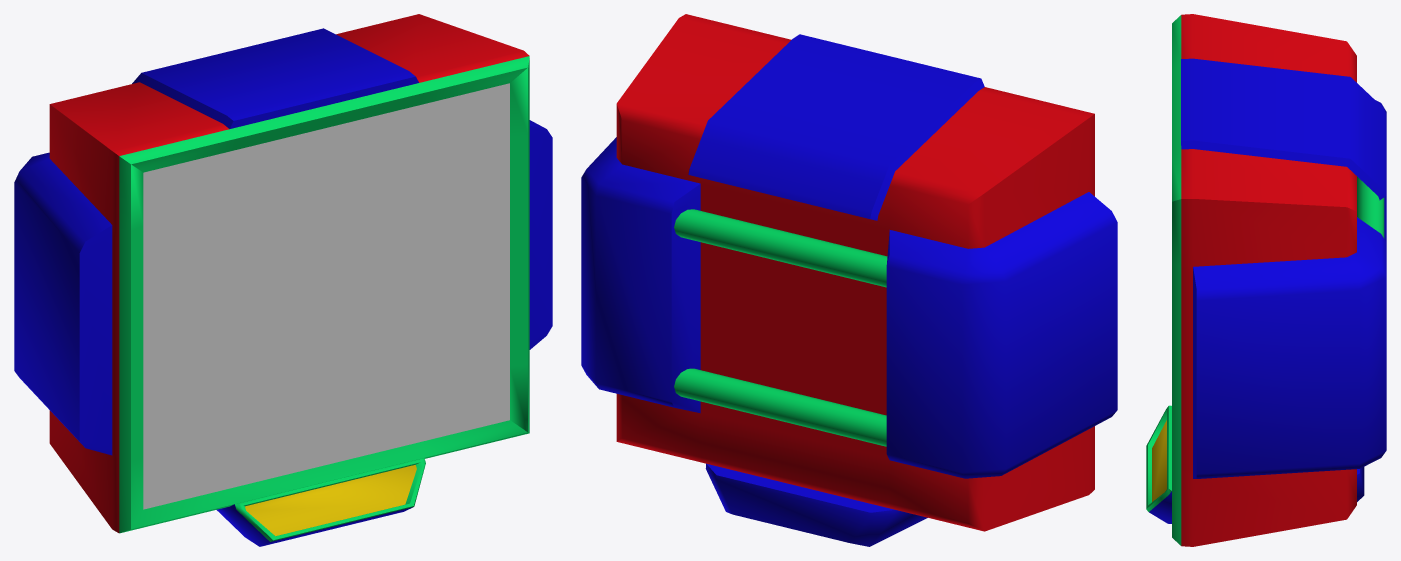
File: TVF.fbx
3 views of the same model, side by side, from view 1: azimuth 30°, elevation 25°; view 2: azimuth 150°, elevation 25°; view 3: azimuth 270°, elevation 25° (orthographic). The views are drawn at different scales.
Visible parts, largest first — view 1: backscreen, TVF; view 2: TVF; view 3: TVF.
Part boxes in pixels (box(x1,y1,x2,y2)): backscreen: box(143, 83, 509, 509); TVF: box(14, 14, 552, 546); TVF: box(581, 14, 1117, 546); TVF: box(1146, 14, 1386, 546).
Bounding box in the file's own units: 321 × 277 × 154.
